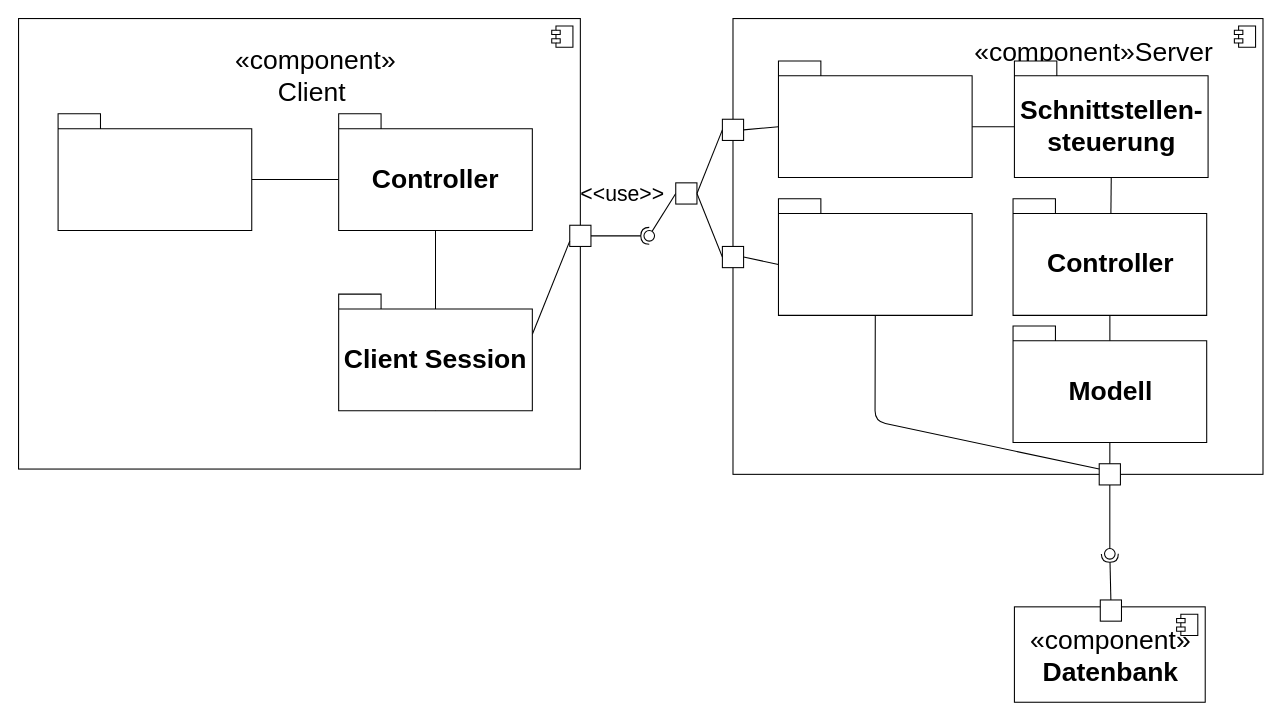
Image size: 1282x721. Some labels were removed from this diagram. Each missing label, with the centre of its shape:
Authen- tifizierung: point 874,256
GUI: point 154,171
Server Session: point 874,119
